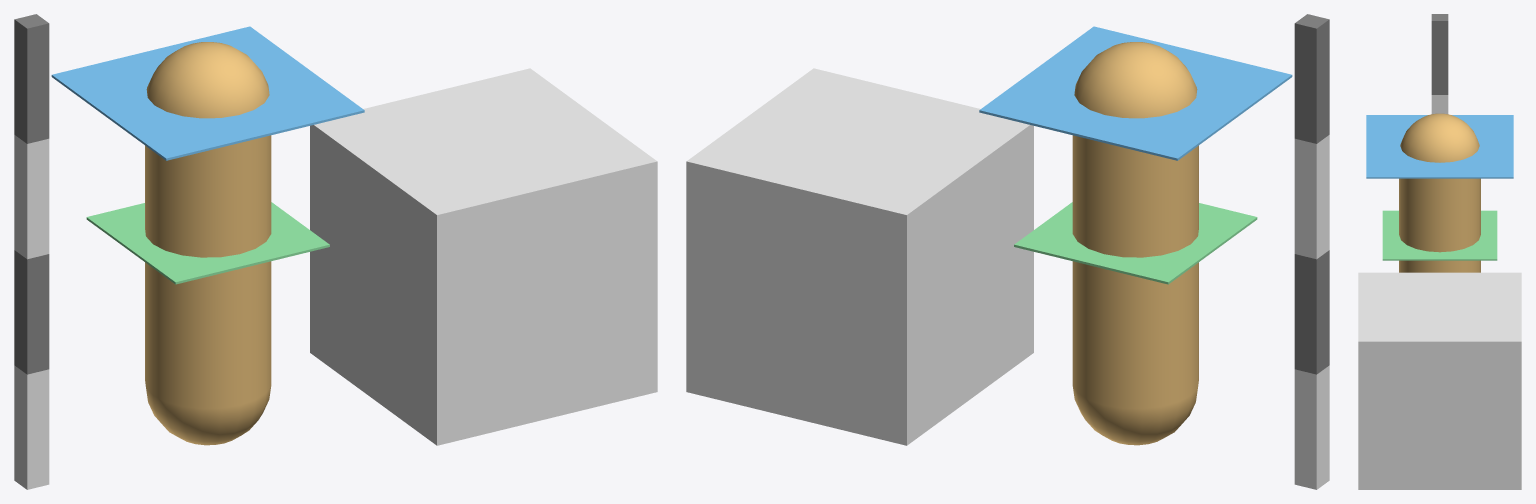
The model's file is player_size_reference.gltf.
3 views of the same model, side by side, from view 1: azimuth 30°, elevation 25°; view 2: azimuth 150°, elevation 25°; view 3: azimuth 270°, elevation 25° (orthographic). The views are drawn at different scales.
Visible parts, largest first — view 1: reference_cube_1_m, reference_player_0.5_m_wide_1.7_m_tall, reference_eye_standing_1.5_m, reference_ruler_0.5_m_steps_b, reference_ruler_0.5_m_steps, reference_eye_crouched_0.9_m; view 2: reference_cube_1_m, reference_player_0.5_m_wide_1.7_m_tall, reference_eye_standing_1.5_m, reference_ruler_0.5_m_steps_b, reference_ruler_0.5_m_steps, reference_eye_crouched_0.9_m; view 3: reference_cube_1_m, reference_player_0.5_m_wide_1.7_m_tall, reference_eye_standing_1.5_m, reference_eye_crouched_0.9_m, reference_ruler_0.5_m_steps_b, reference_ruler_0.5_m_steps.
Part boxes in pixels (bbox=[...]): reference_cube_1_m: bbox=[310, 68, 657, 445]; reference_player_0.5_m_wide_1.7_m_tall: bbox=[145, 42, 271, 445]; reference_eye_standing_1.5_m: bbox=[51, 26, 364, 160]; reference_ruler_0.5_m_steps_b: bbox=[14, 14, 49, 374]; reference_ruler_0.5_m_steps: bbox=[14, 135, 49, 489]; reference_eye_crouched_0.9_m: bbox=[86, 202, 329, 284]; reference_cube_1_m: bbox=[686, 68, 1033, 445]; reference_player_0.5_m_wide_1.7_m_tall: bbox=[1072, 42, 1198, 445]; reference_eye_standing_1.5_m: bbox=[979, 26, 1292, 160]; reference_ruler_0.5_m_steps_b: bbox=[1294, 14, 1329, 374]; reference_ruler_0.5_m_steps: bbox=[1294, 135, 1329, 489]; reference_eye_crouched_0.9_m: bbox=[1014, 202, 1257, 284]; reference_cube_1_m: bbox=[1358, 272, 1521, 489]; reference_player_0.5_m_wide_1.7_m_tall: bbox=[1399, 113, 1480, 272]; reference_eye_standing_1.5_m: bbox=[1366, 115, 1513, 178]; reference_eye_crouched_0.9_m: bbox=[1382, 210, 1497, 260]; reference_ruler_0.5_m_steps_b: bbox=[1431, 14, 1448, 94]; reference_ruler_0.5_m_steps: bbox=[1431, 95, 1448, 114].
Size of the model in its own units: 2.6 by 2 by 1.
